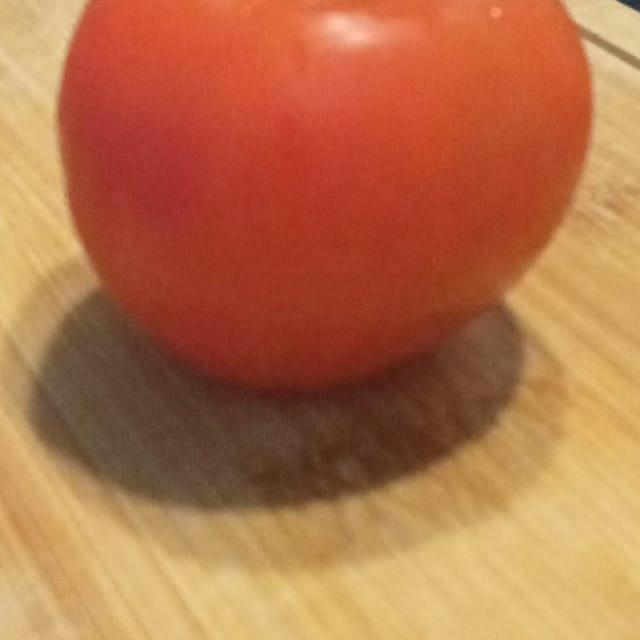tomato: (22, 0, 640, 432)
